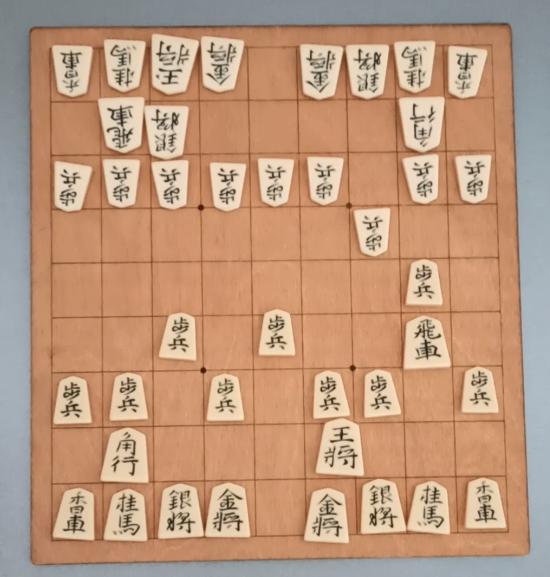board: (50, 45, 508, 541)
